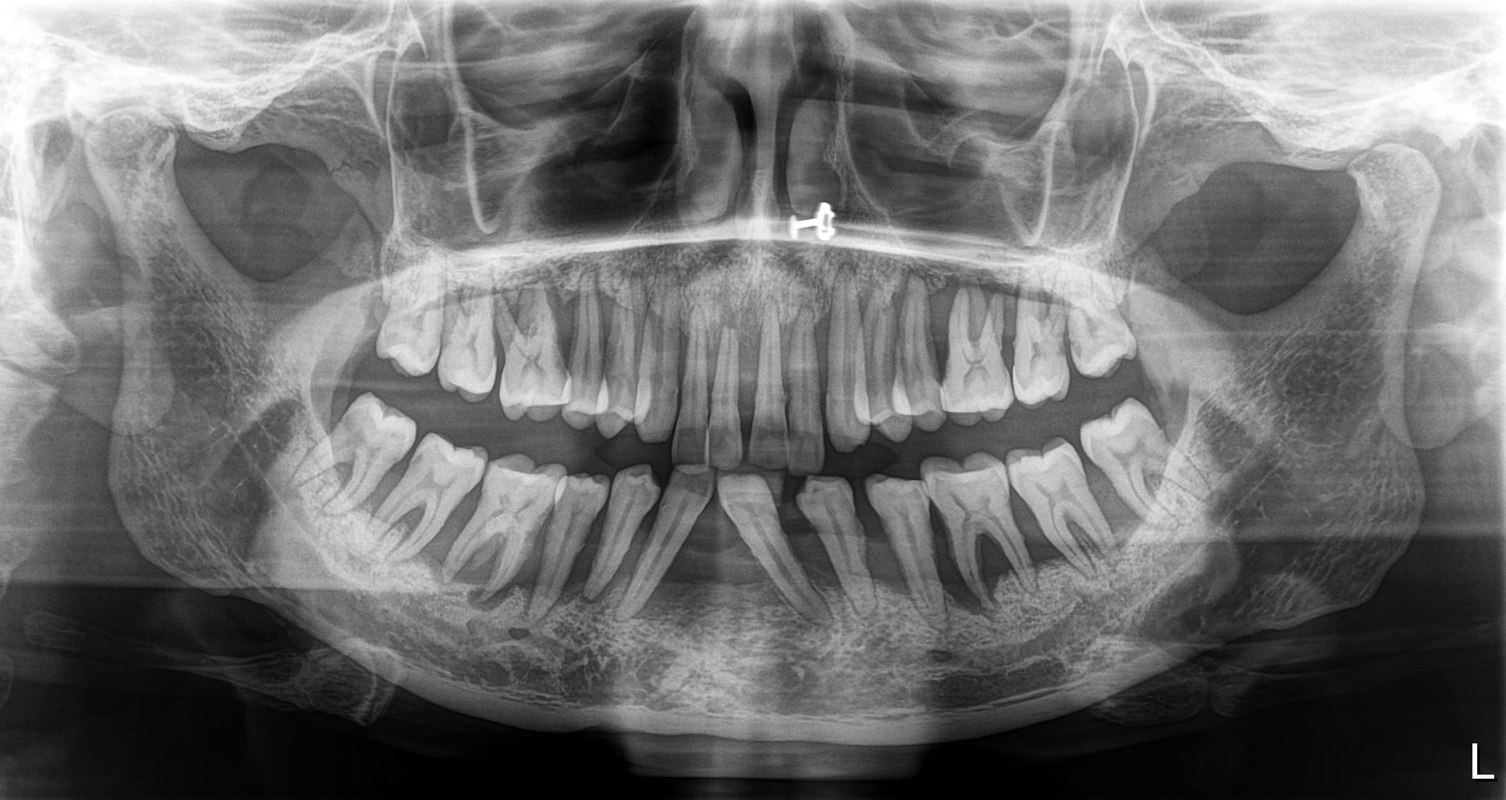Impacted Third Molar: (1080, 395, 1210, 530), (292, 403, 407, 499)
Missing Tooth: (685, 511, 749, 644)
